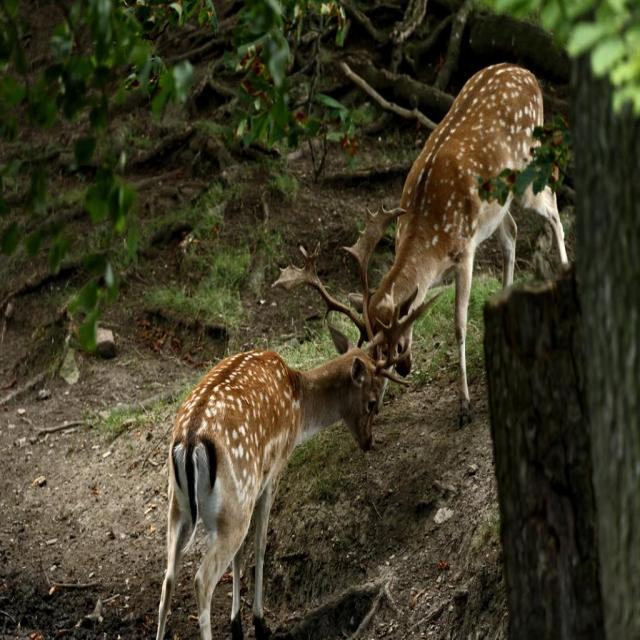Deer: (269, 56, 570, 405), (154, 288, 448, 640)
